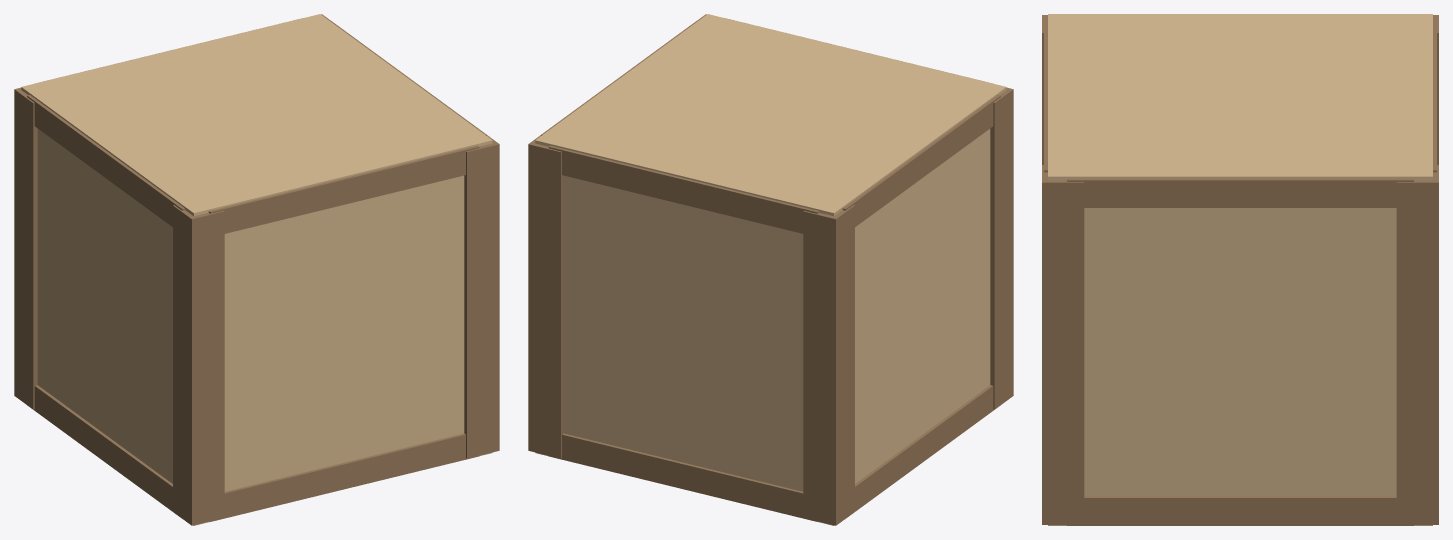
Rendered from crate.glb.
The picture shows the model from 3 angles, left to right: view 1: azimuth 30°, elevation 25°; view 2: azimuth 150°, elevation 25°; view 3: azimuth 270°, elevation 25°; orthographic projection. The views are drawn at different scales.
Parts seen in each view (by area): view 1: CrateBody, CornerPostLF, CornerPostRF, CornerPostLB, RailXTF, RailXBF, RailZTL, RailZBL; view 2: CrateBody, CornerPostLB, CornerPostRB, CornerPostLF, RailXTB, RailXBB, RailZTL, RailZBL; view 3: CrateBody, CornerPostRB, CornerPostRF, RailZTR, RailZBR, RailXTB, RailXTF.
Part boxes in pixels (x1,y1,x2,y2): CrateBody: (21,14,492,525); CornerPostLF: (173,205,224,525); CornerPostRF: (464,135,499,458); CornerPostLB: (14,87,37,409); RailXTF: (208,145,479,233); RailXBF: (210,433,479,521); RailZTL: (27,95,185,226); RailZBL: (27,385,172,511); CrateBody: (535,14,1006,525); CornerPostLB: (803,205,854,525); CornerPostRB: (528,135,563,458); CornerPostLF: (990,87,1013,409); RailXTB: (548,145,819,233); RailXBB: (548,433,817,521); RailZTL: (842,95,1000,226); RailZBL: (855,385,1000,511); CrateBody: (1048,14,1432,525); CornerPostRB: (1396,165,1438,524); CornerPostRF: (1042,165,1084,524); RailZTR: (1067,178,1413,207); RailZBR: (1067,496,1413,525); RailXTB: (1433,24,1436,172); RailXTF: (1044,24,1047,172).
Bounding box in the file's own units: 1.03 × 1 × 1.03.
